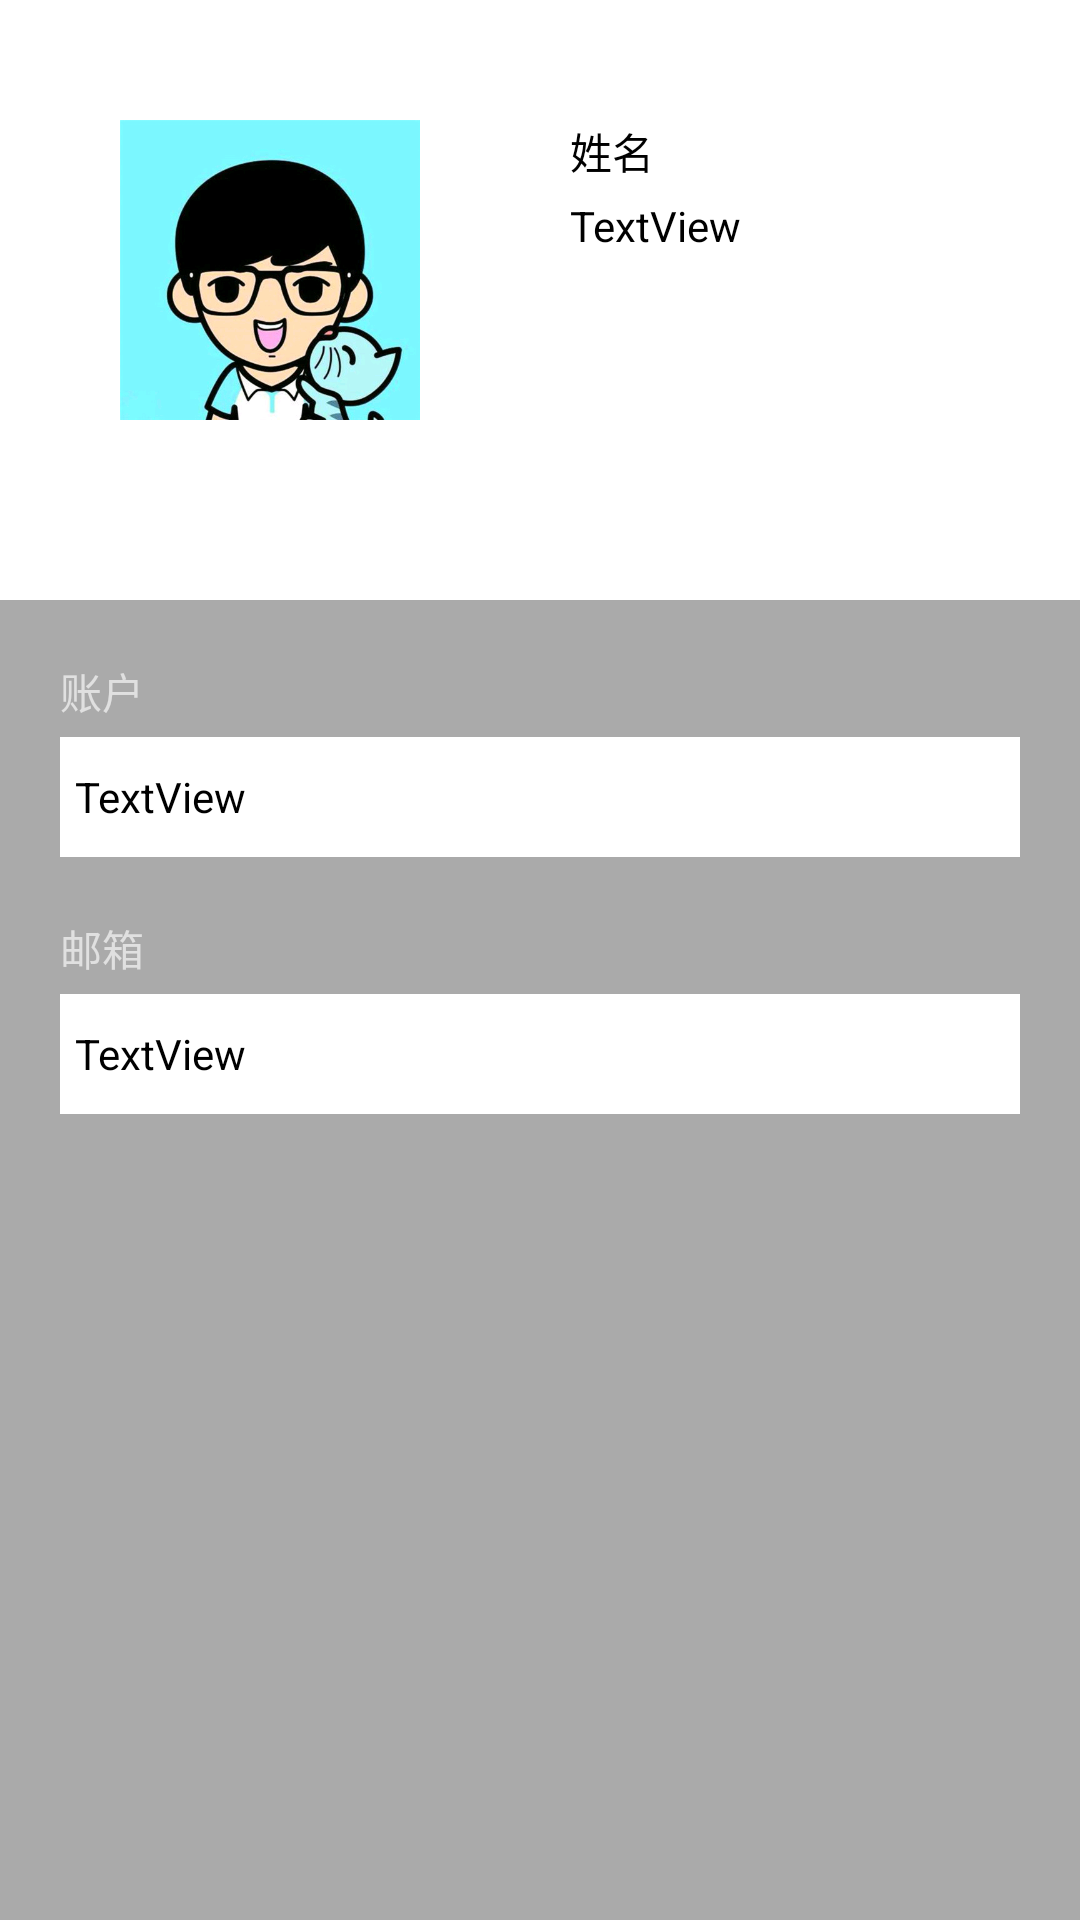

Screen size 1080×1920. Icon name, then its box in pixels as {"x1": x1, "y1": y1, "x2": x2, "y2": y2}:
profile: {"x1": 120, "y1": 120, "x2": 420, "y2": 420}
